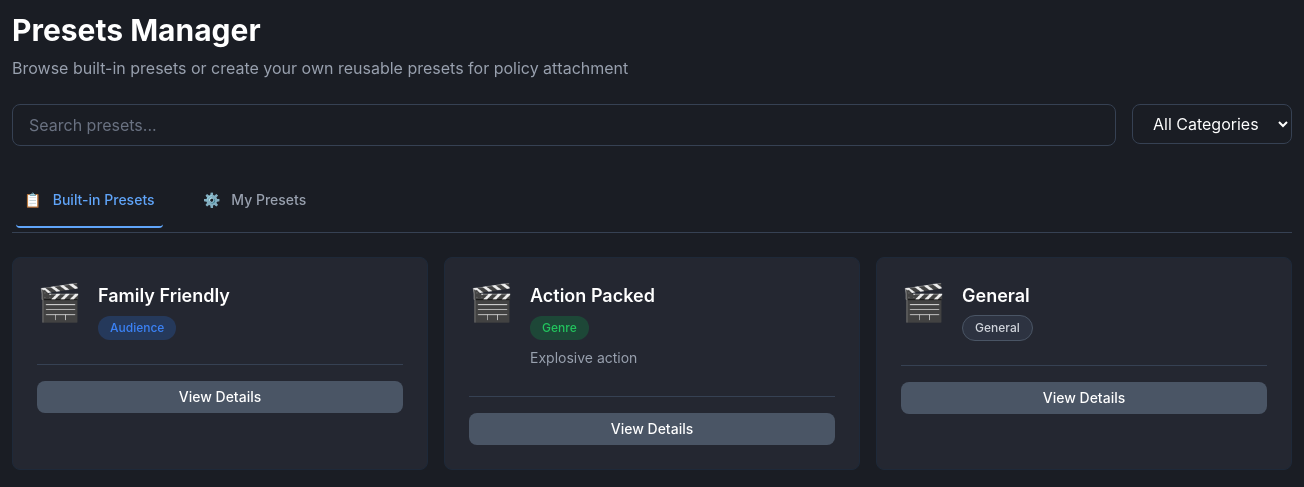
Test case: PresetsManager.vue › rendering › shows filtered empty state when search has no matches
Type "nonexistent" into the field with placeholder "Search presets..." at coordinates (564, 125), box 12,104 -> 1116,146
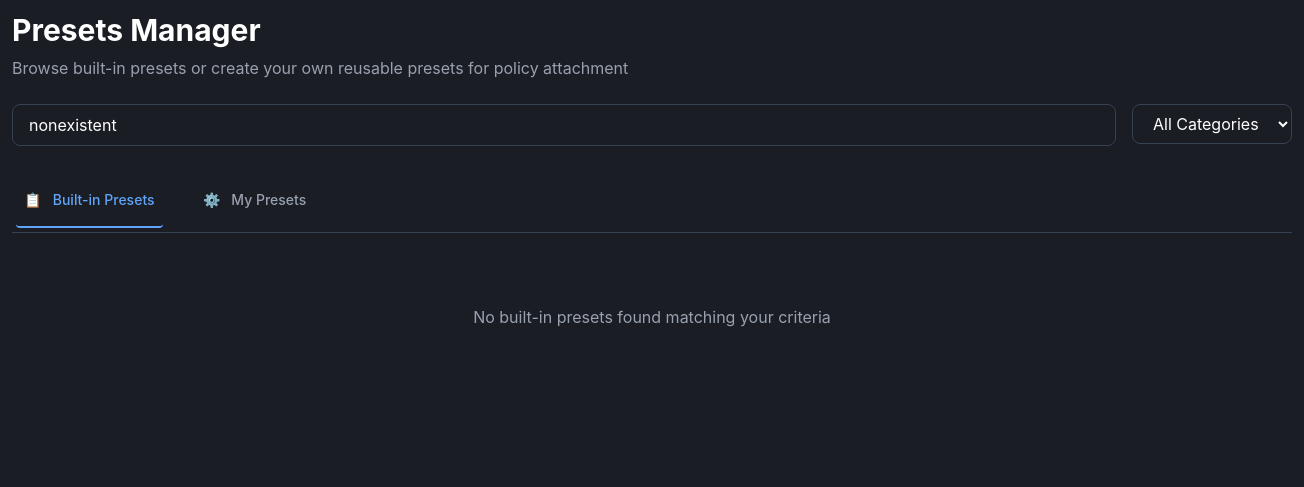
Now the text "No built-in presets found matching your criteria" is shown, box 473,307 -> 831,327
